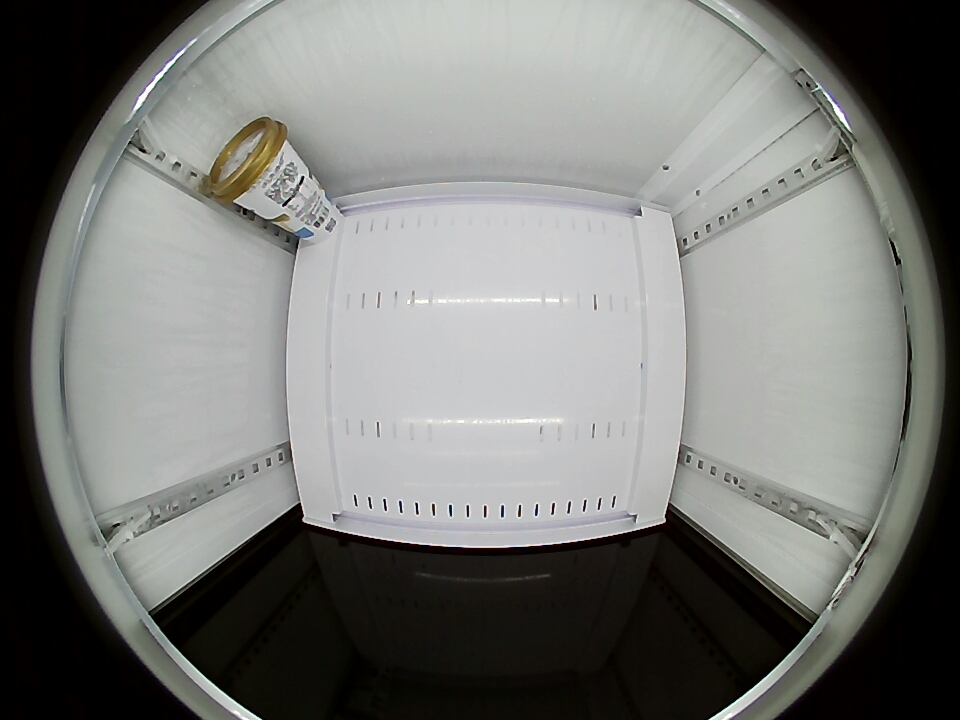lujiaoxiang: (206, 116, 293, 208)
